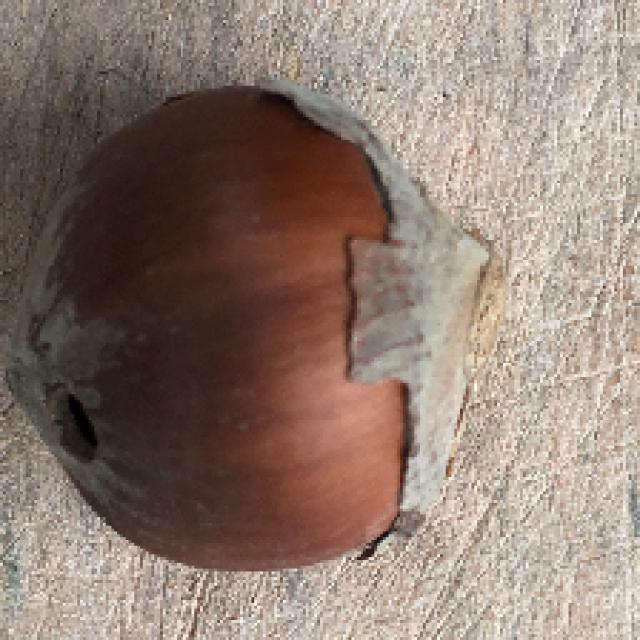damagedHazelnut: (6, 80, 504, 570)
